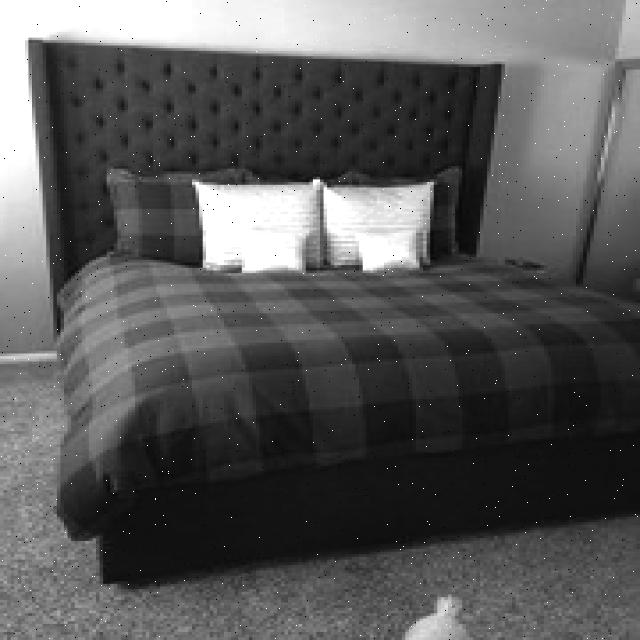bed: (48, 141, 640, 574)
